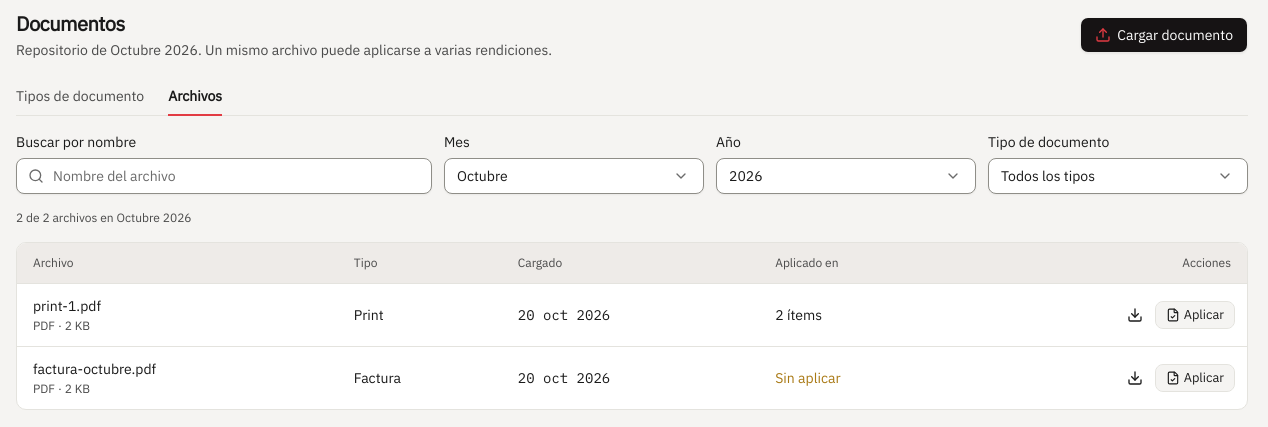
ArchivosPage: repositorio › filtra por tipo de documento (en la URL y en el pedido)
This screenshot has width=1268, height=427.
Expected: the button "print-1.pdf" is shown, 33,296 -> 101,316
Click the dropdown named "Tipo de documento": point(1048, 176) 988,158 -> 1248,194
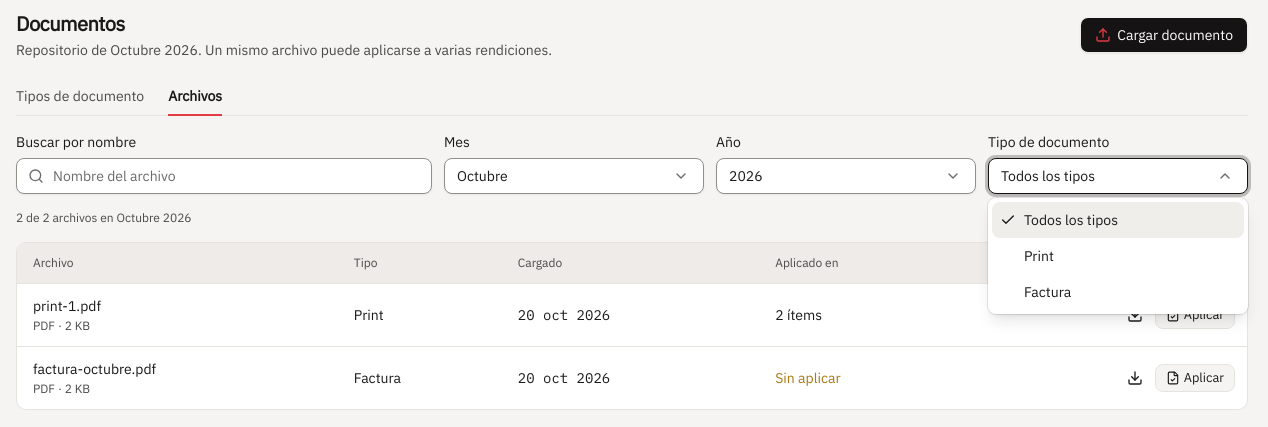
Click the option "Factura": point(1048, 292) 1024,283 -> 1071,301
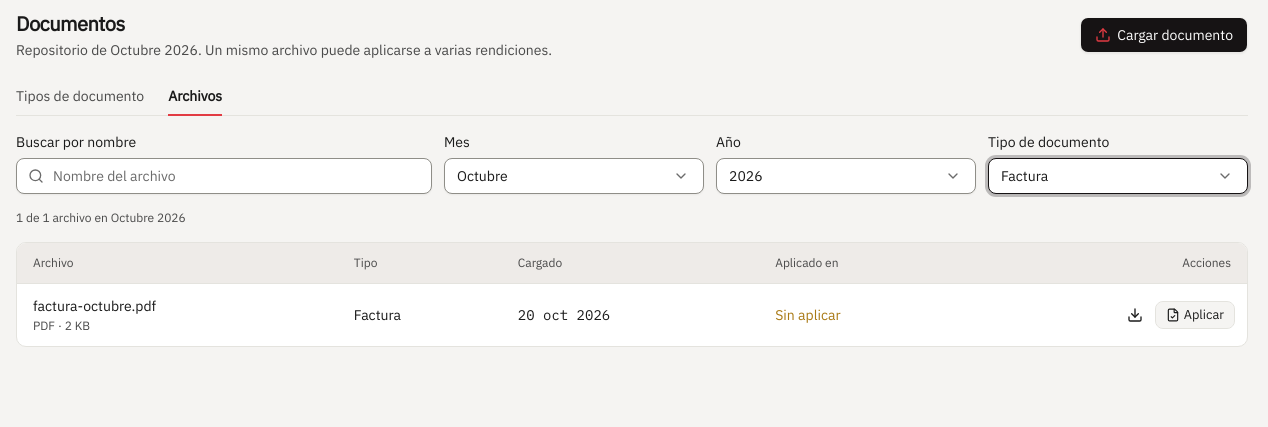
Expected: the list is gone
Expected: the button "print-1.pdf" is gone
